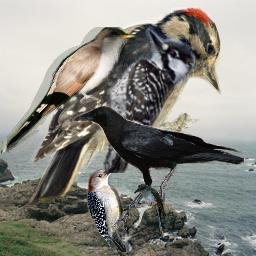Crow: (72, 104, 244, 208)
Cuckoo: (1, 27, 138, 153), (134, 184, 166, 237)
Woodpecker: (12, 4, 221, 213), (77, 25, 195, 173), (87, 165, 129, 252)
